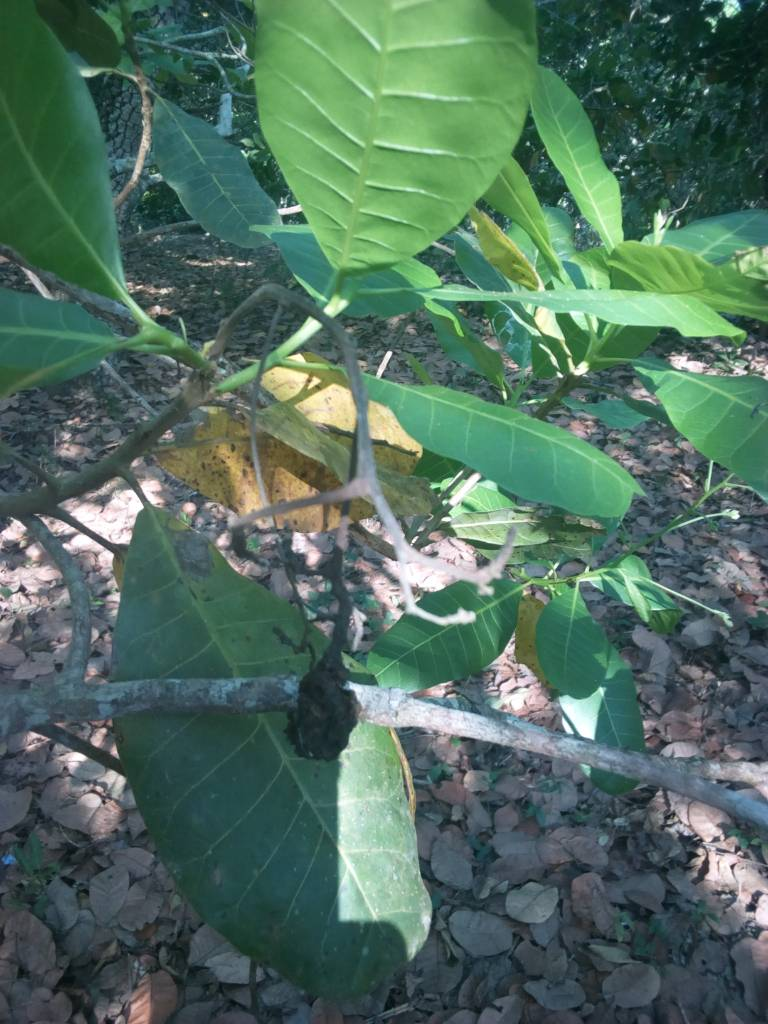Bactériose: (182, 432, 325, 507)
